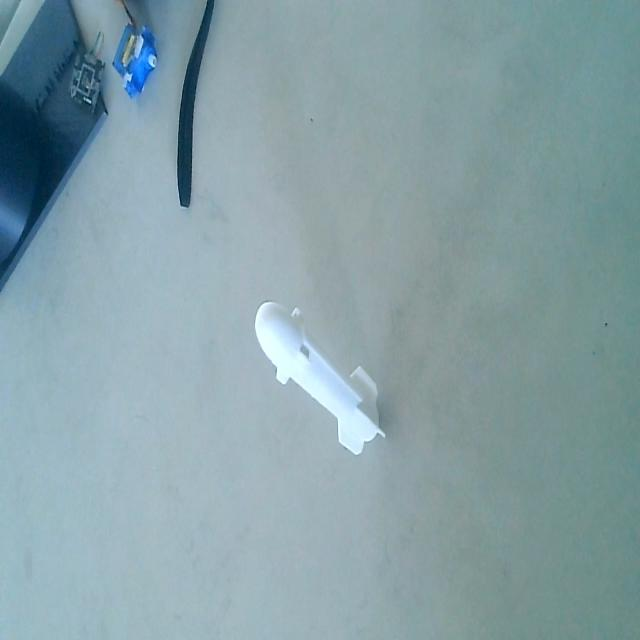Rocket: (252, 281, 388, 468)
